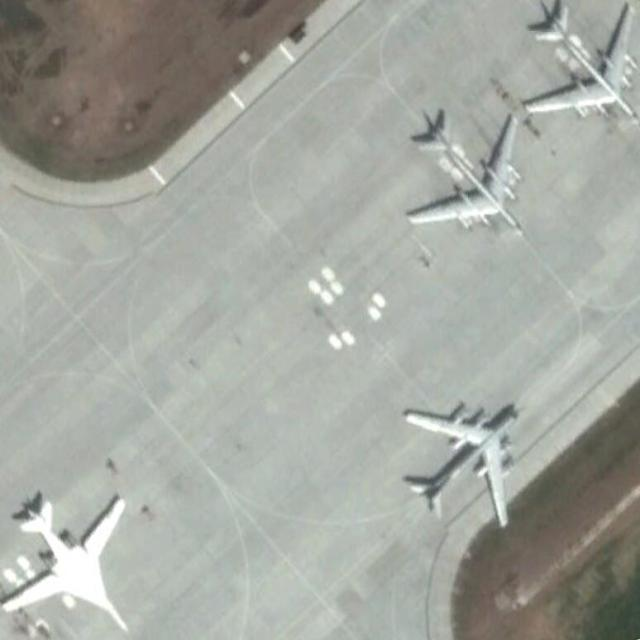fighter jet: (401, 383, 525, 525), (3, 497, 129, 628), (526, 0, 640, 131), (405, 112, 518, 230)
